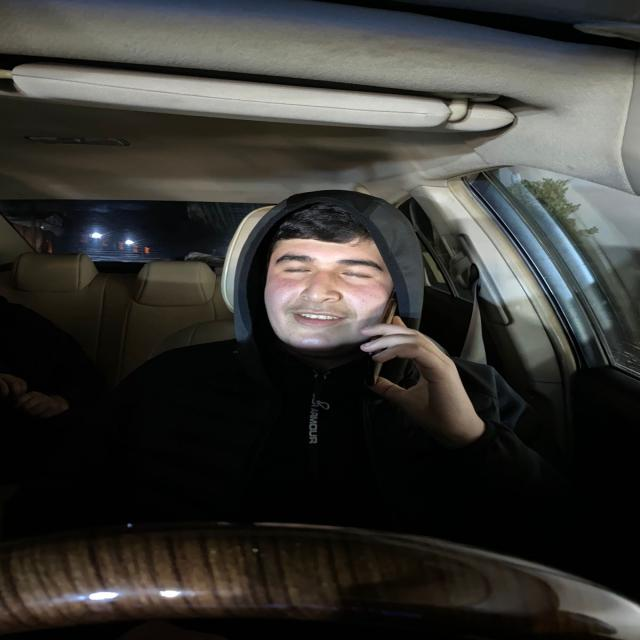phone: (370, 284, 406, 388)
